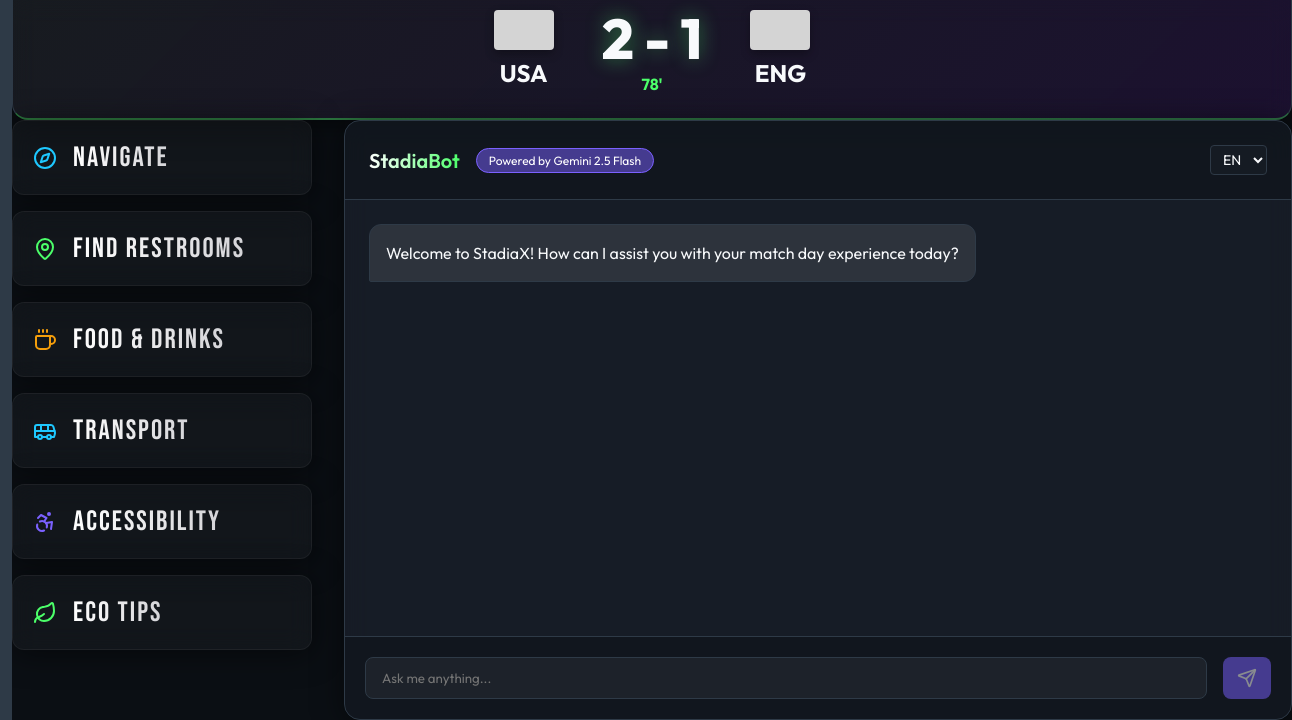
Test case: FanView Component › handles network failure gracefully
(page scrolled)
Type "Trigger network error" into the field with placeholder "Ask me anything..." at (786, 678), box [365,657,1207,699]
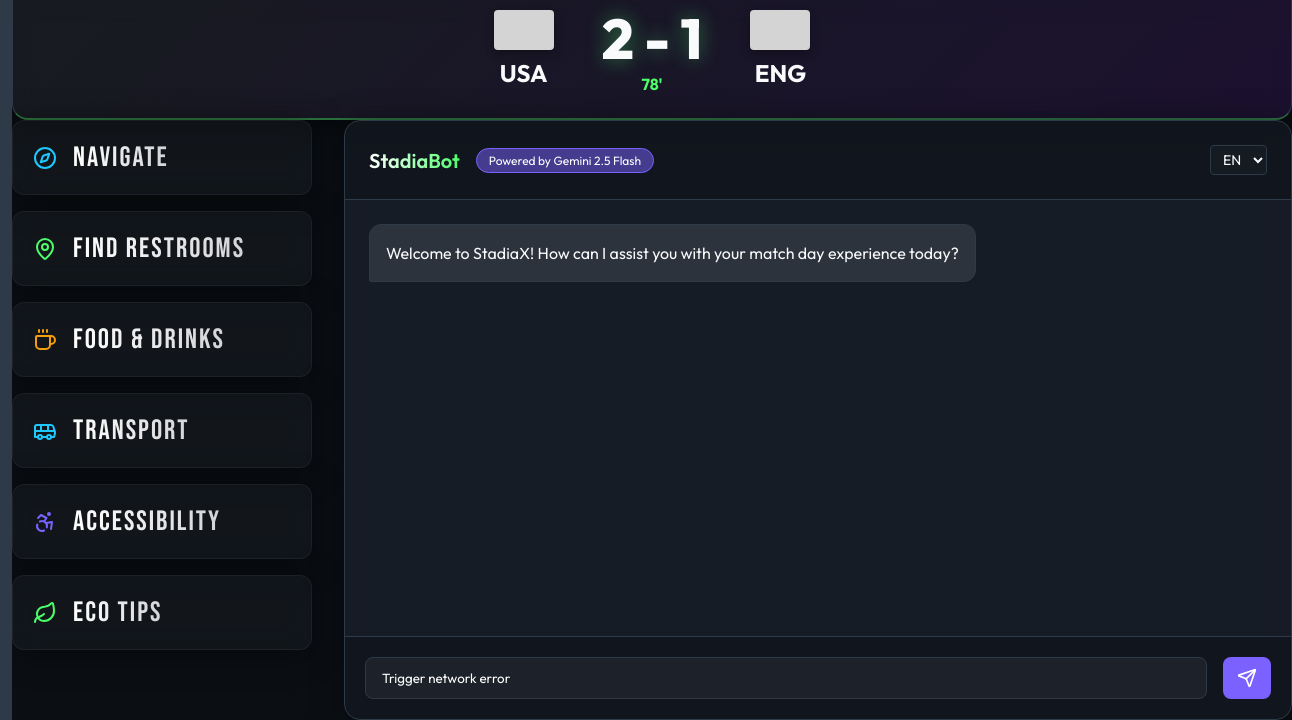
Click the button named "Send message" at (1247, 678), box [1223,657,1271,699]
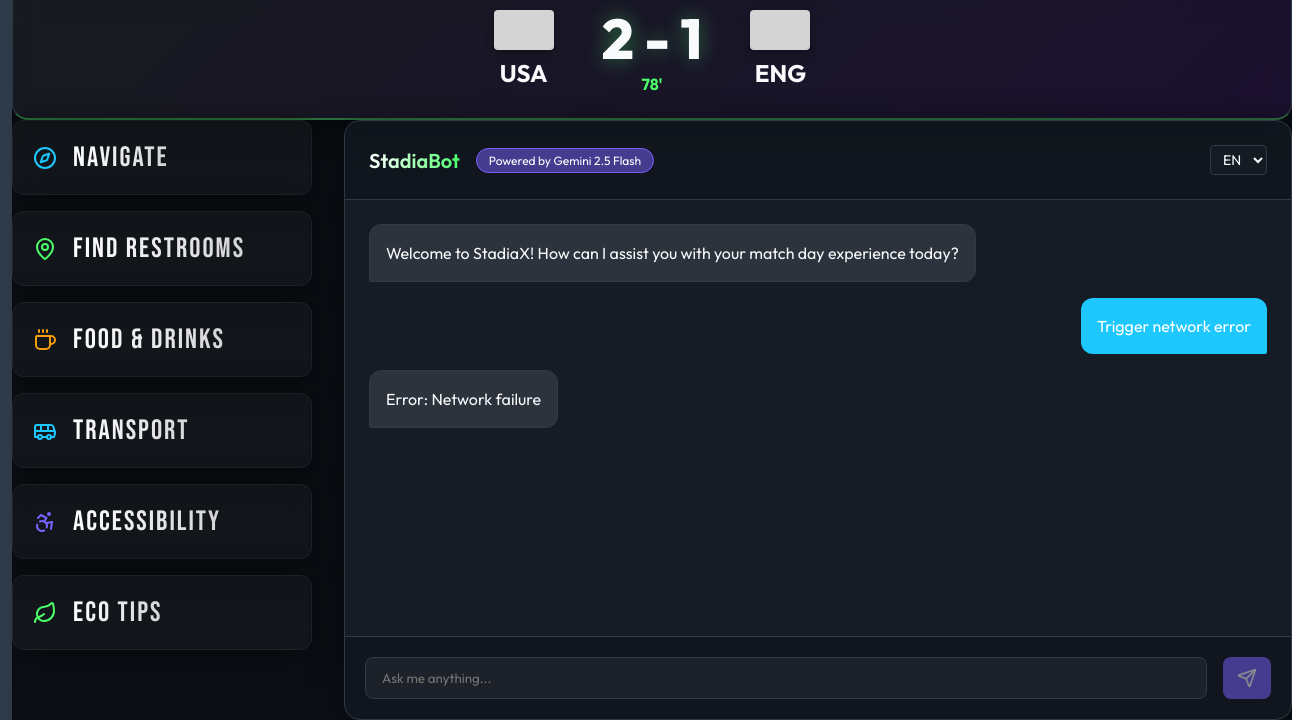
Result: the text "Error: Network failure" is shown at [369,370,558,428]
